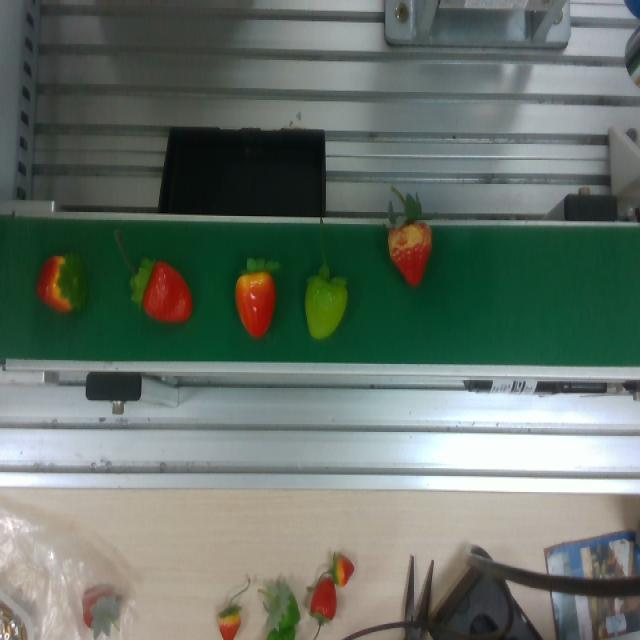Moldy Strawberry: (383, 209, 442, 288)
Small Ripe Strawberry: (119, 251, 193, 322)
Small Unripe Strawberry: (29, 236, 93, 322), (226, 260, 283, 350), (300, 262, 357, 344)
conveyor: (0, 209, 640, 374)
